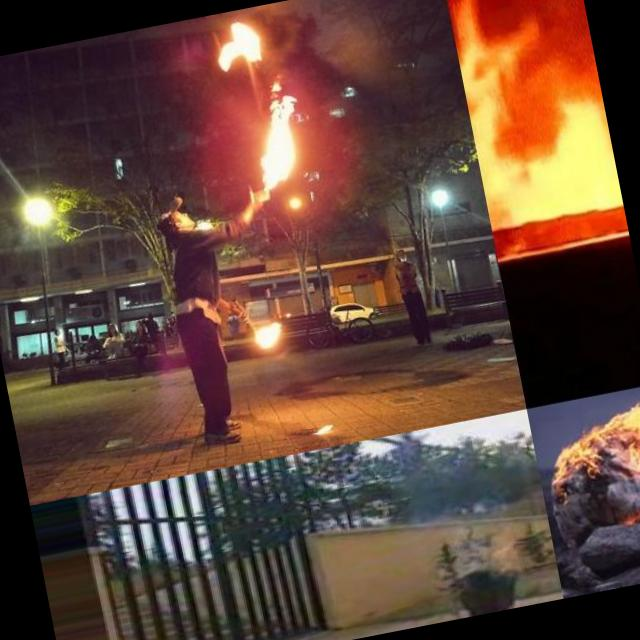fire: (448, 0, 623, 226), (534, 383, 640, 491), (232, 74, 314, 194), (200, 5, 278, 80), (236, 298, 297, 369), (472, 534, 536, 588)
